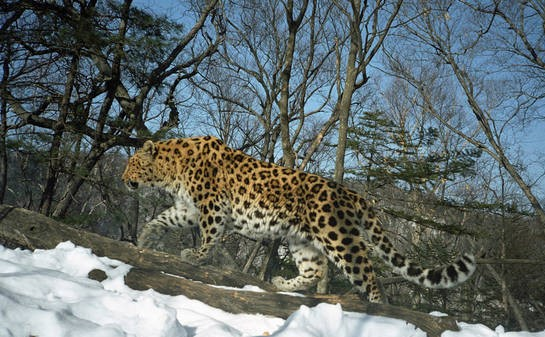amur_leopard: (107, 117, 487, 296)
